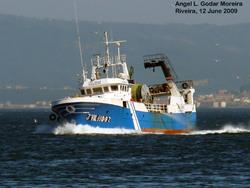otherboat: (41, 23, 198, 138)
